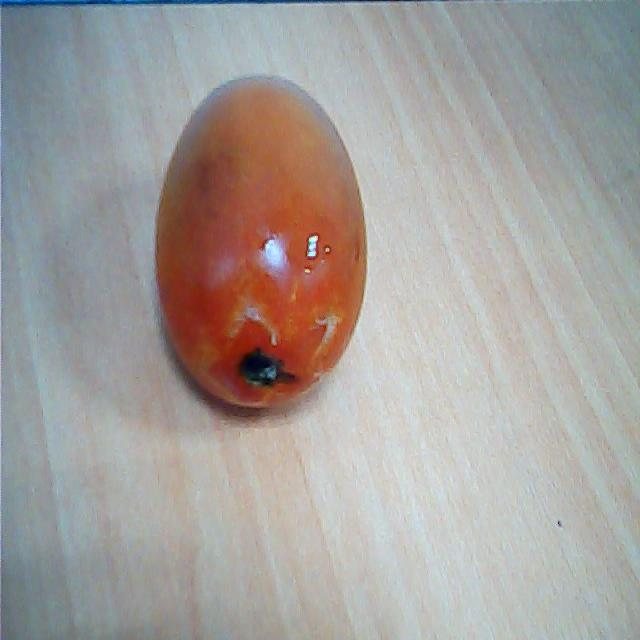defectuoso: (142, 71, 368, 415)
